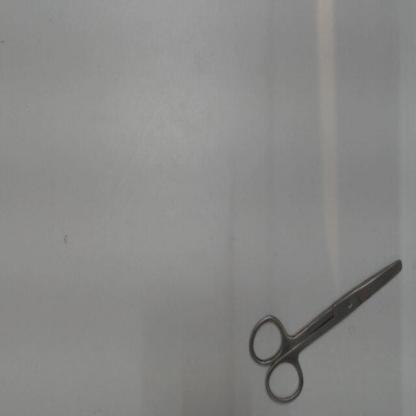Dressing Scissors: (238, 247, 409, 411)
